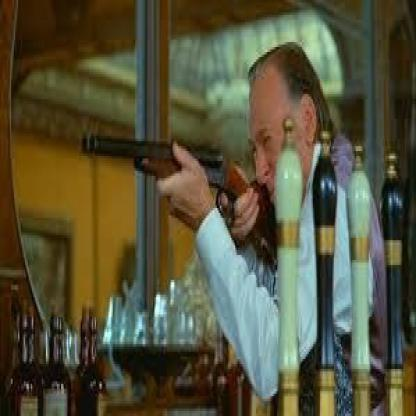Gun: (75, 129, 270, 223)
